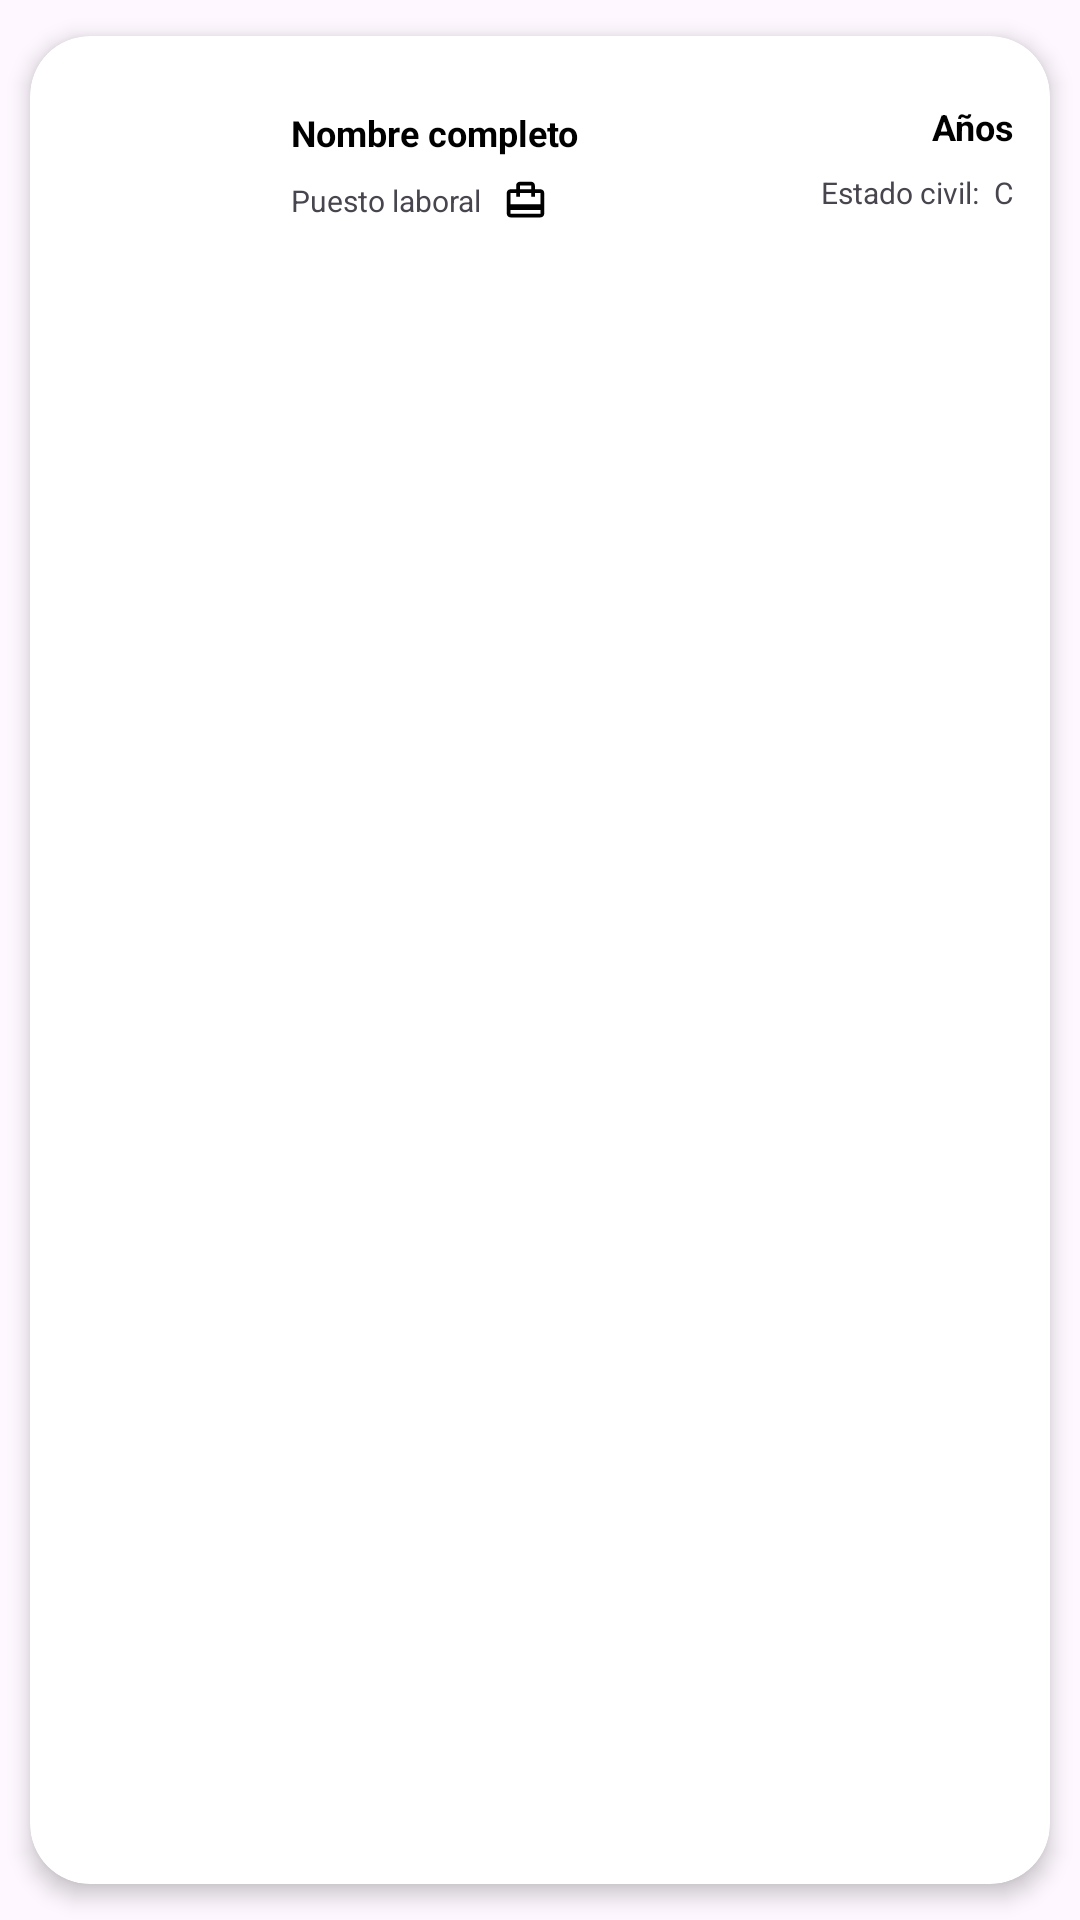

Locate icon controls on the screen. Image size 1080*1920, boxes as {"x1": x1, "y1": y1, "x2": x2, "y2": y2}.
card travel: {"x1": 506, "y1": 181, "x2": 545, "y2": 218}
